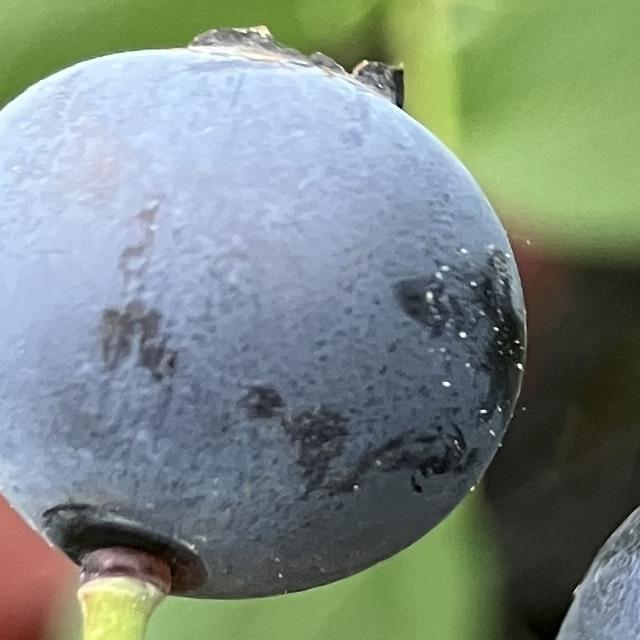Blueberries: (0, 23, 529, 604)
